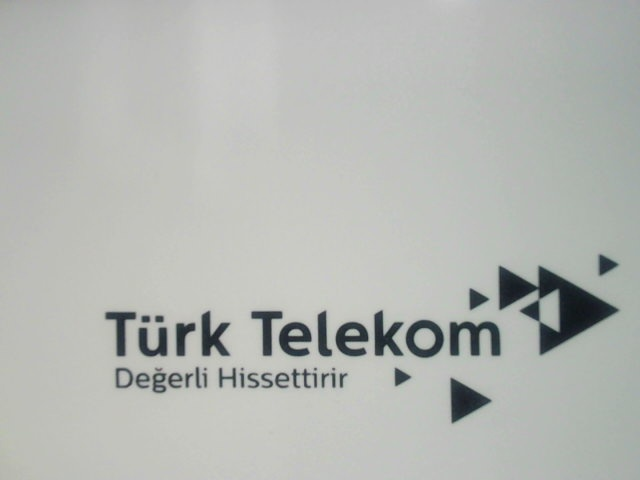AQ_TURKTelekom: (79, 234, 637, 424)
